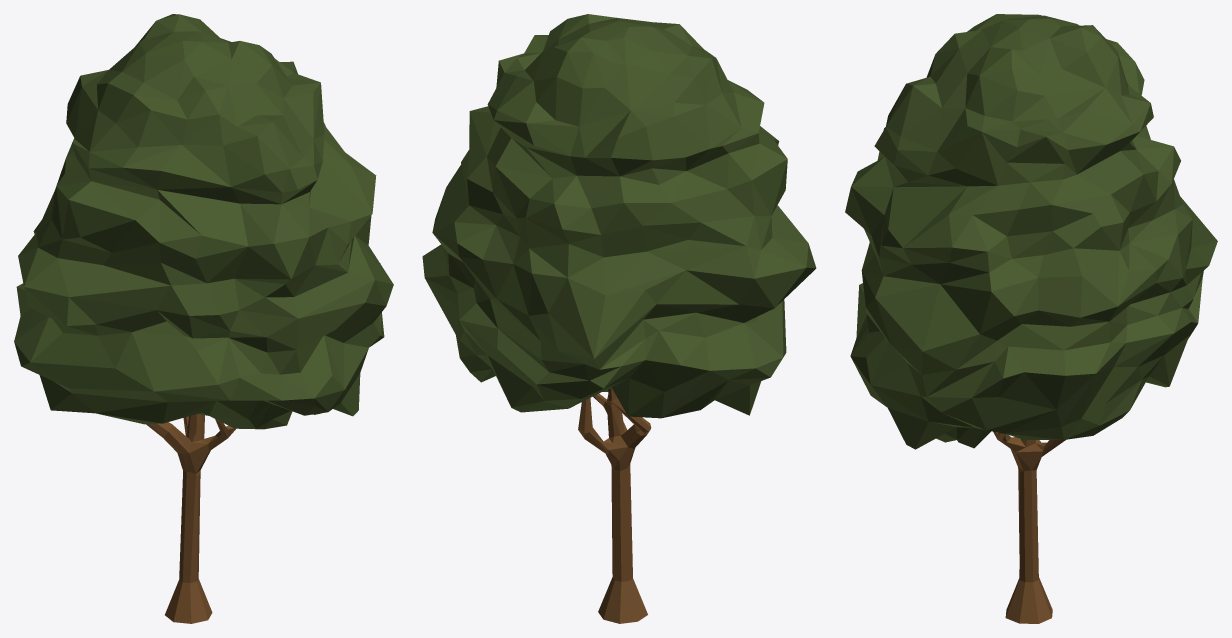
The model's file is delh_foli_04_01.fbx.
3 renders of one model, left to right at view 1: azimuth 30°, elevation 25°; view 2: azimuth 150°, elevation 25°; view 3: azimuth 270°, elevation 25°, orthographic. The views are drawn at different scales.
Visible parts, largest first — view 1: delh_foli_04_01; view 2: delh_foli_04_01; view 3: delh_foli_04_01.
Boxes of the visible parts, <box> form: delh_foli_04_01: <box>14,14,393,623</box>; delh_foli_04_01: <box>422,14,816,623</box>; delh_foli_04_01: <box>845,14,1217,623</box>.
Bounding box in the file's own units: 317 × 498 × 283.
